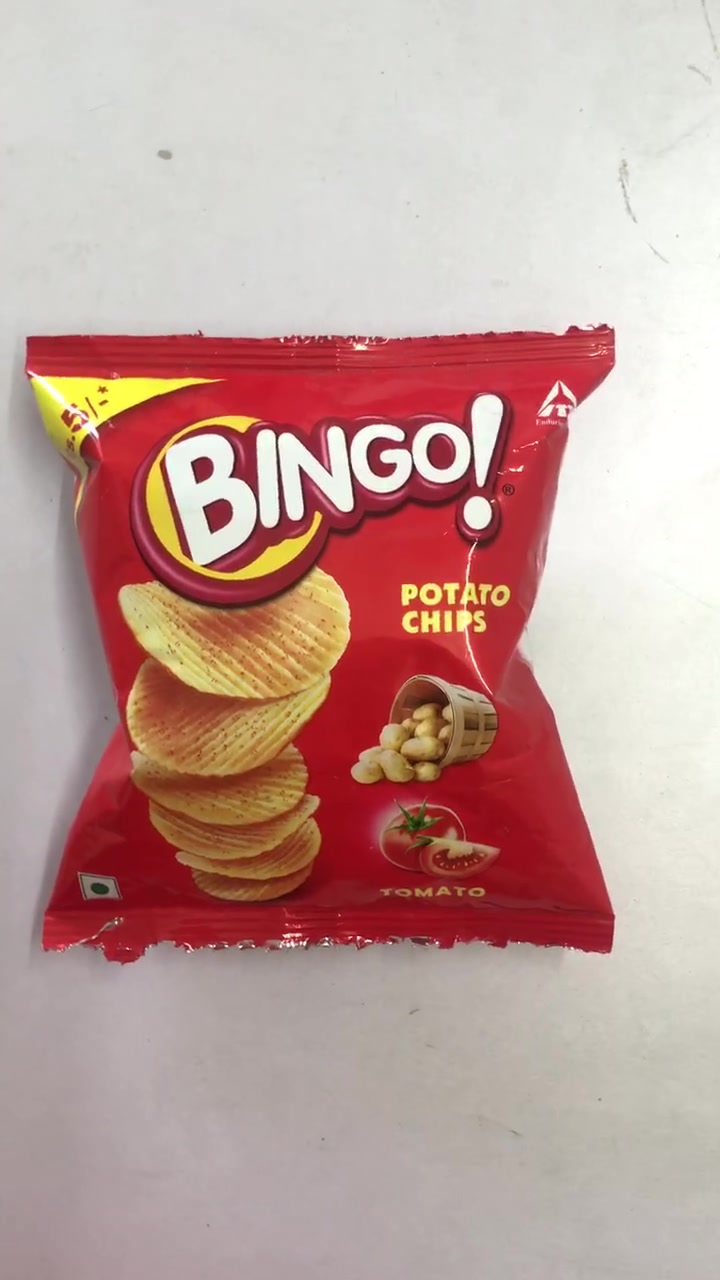Bingo: (35, 332, 616, 946)
